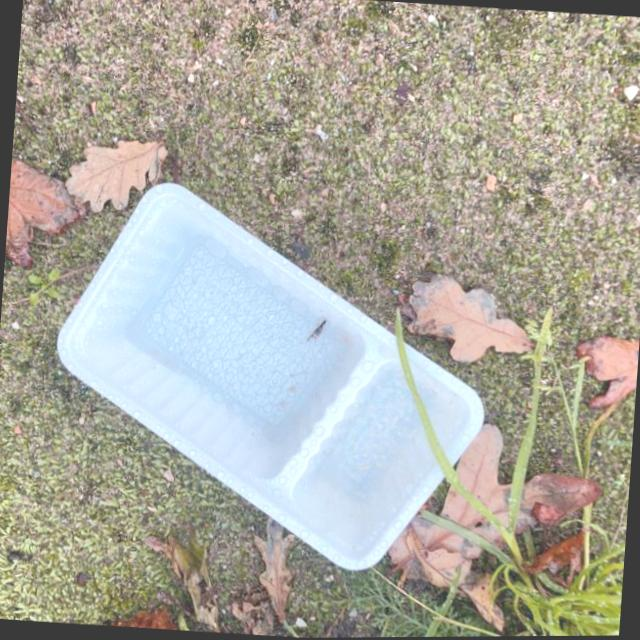Plastic: (38, 171, 502, 586)
